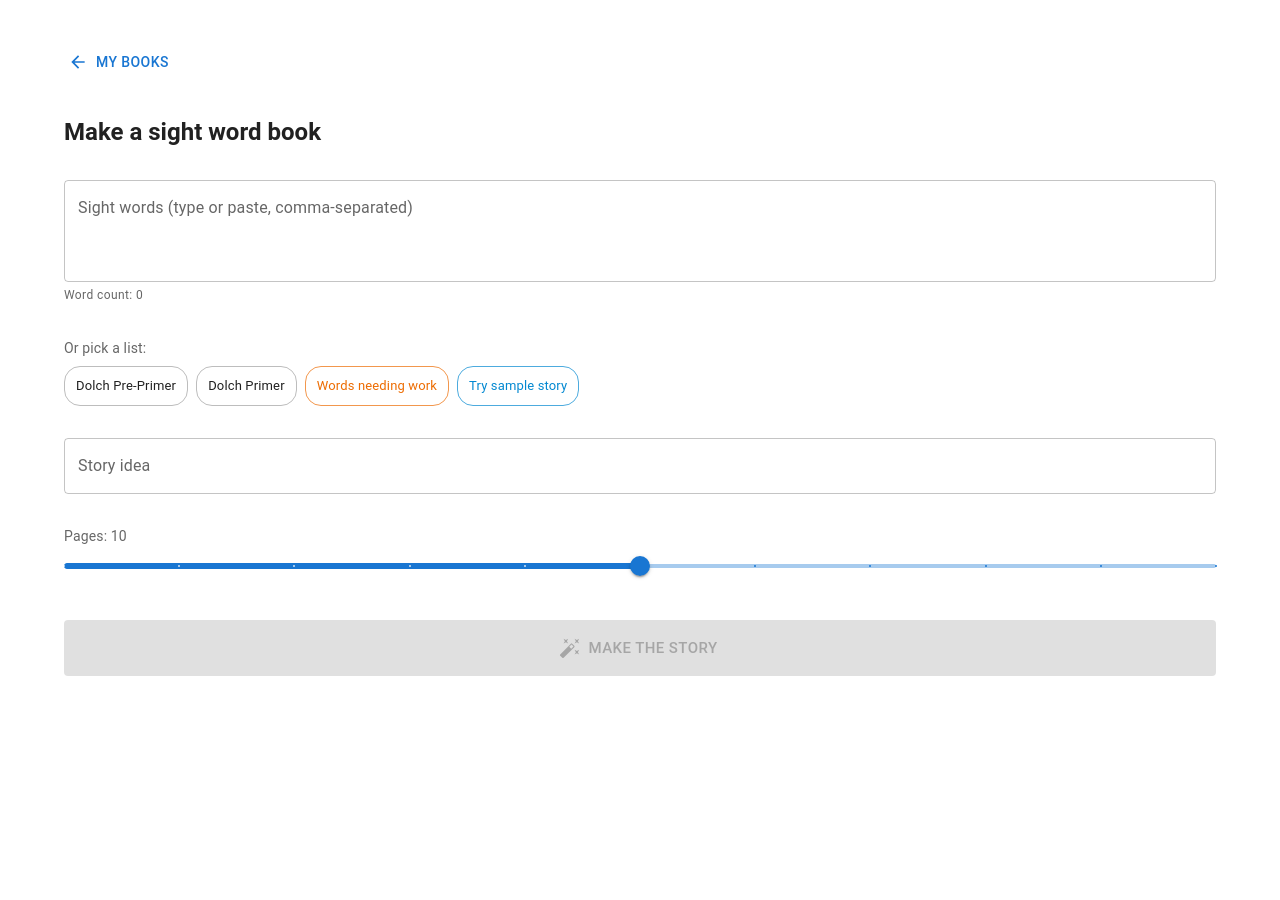
CreateSightWordBook — a switch does not re-file the story (Codex round 1, UX-324) › says nothing while the header still agrees with the draft
Type "the, cat, dog" into the text box labelled "Sight words (type or paste, comma-separated)" at (640, 231), box [78, 196, 1202, 266]
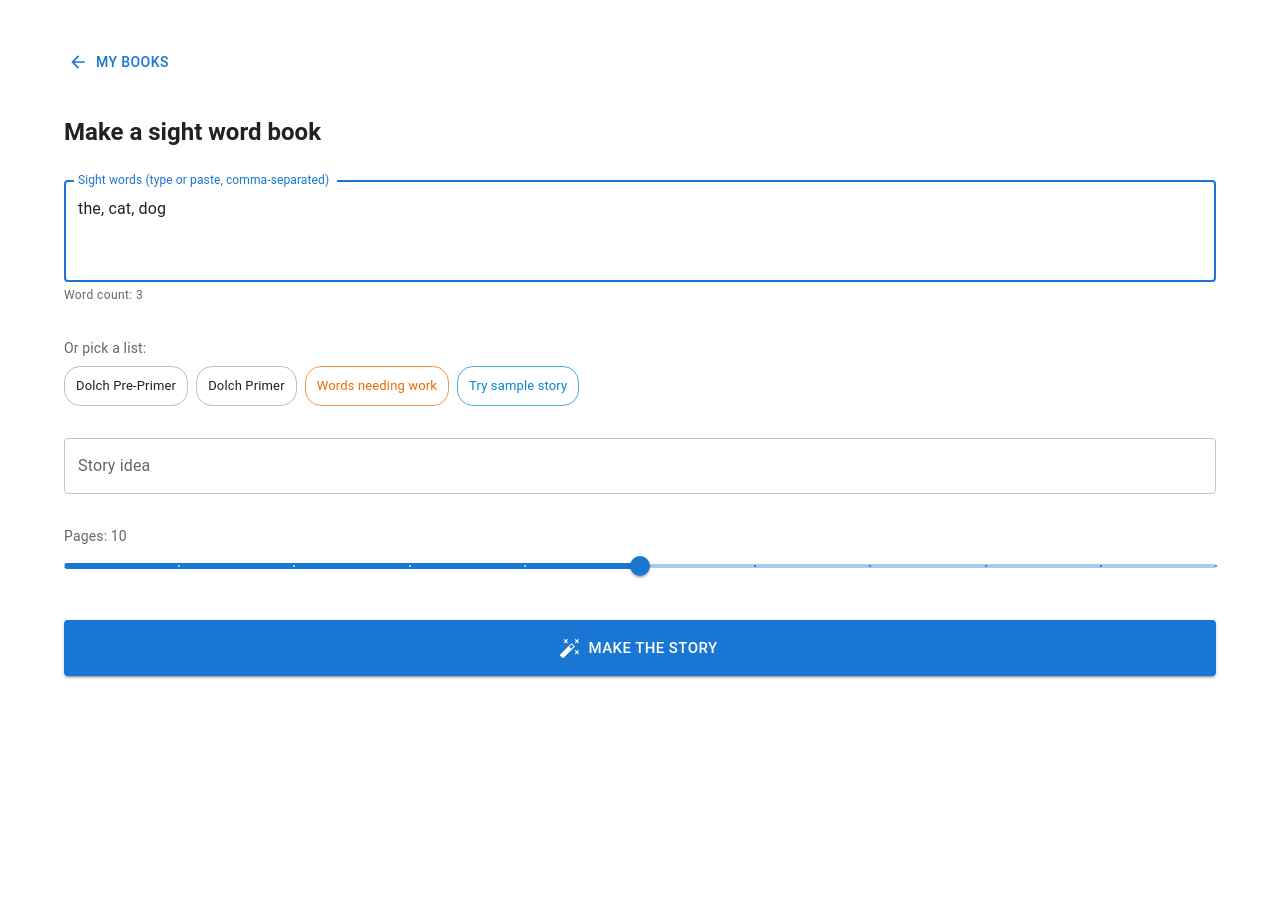
Click the button "Make the story" at (640, 648), box [64, 620, 1216, 676]
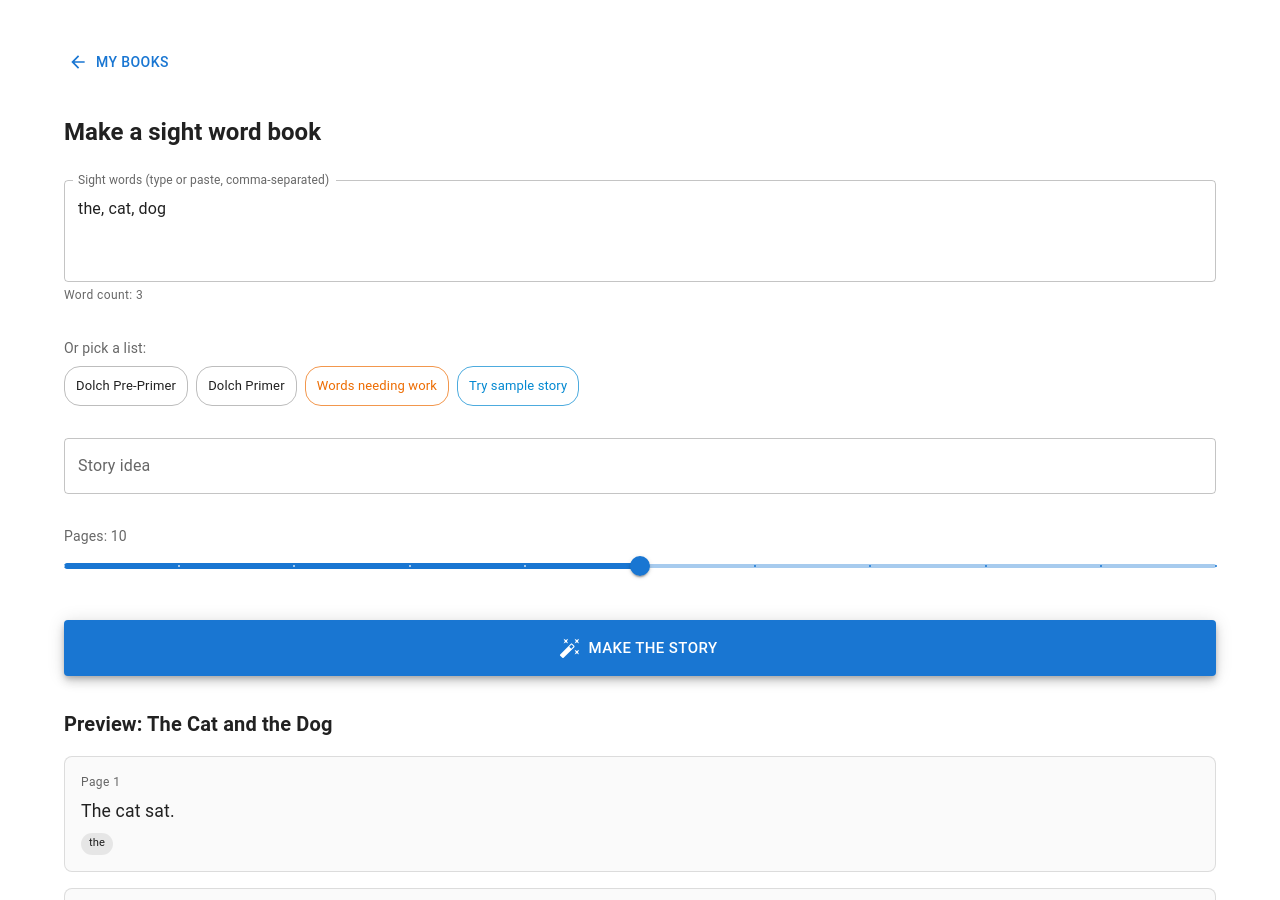
Check: the heading "Preview: The Cat and the Dog" is shown, box [64, 712, 332, 736]
